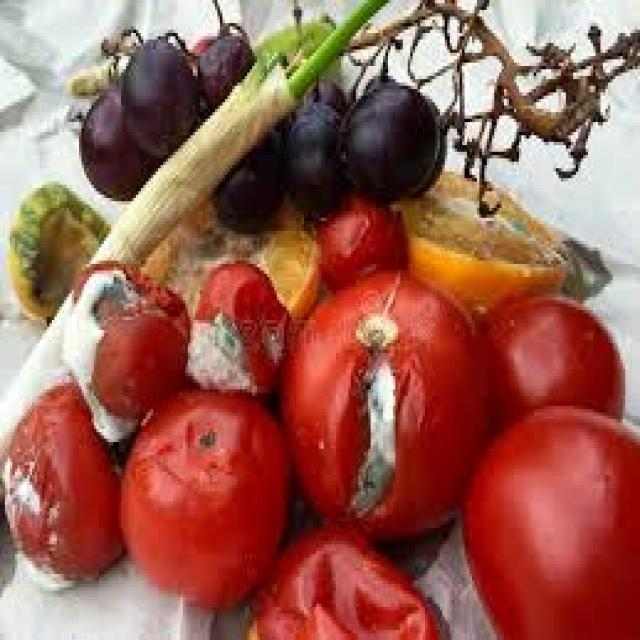organic waste: (0, 0, 383, 455), (279, 264, 489, 541), (457, 399, 638, 637), (116, 372, 297, 604), (141, 178, 321, 340), (2, 369, 126, 584), (395, 162, 561, 310), (60, 248, 190, 432), (472, 287, 623, 435), (242, 528, 445, 637), (185, 254, 292, 399), (5, 181, 106, 317), (336, 79, 437, 198), (114, 30, 202, 162), (306, 181, 411, 287), (366, 69, 442, 195), (77, 82, 158, 194), (279, 89, 346, 205), (213, 135, 279, 228), (259, 13, 341, 83), (190, 23, 254, 102), (551, 231, 610, 294), (311, 76, 351, 122)
